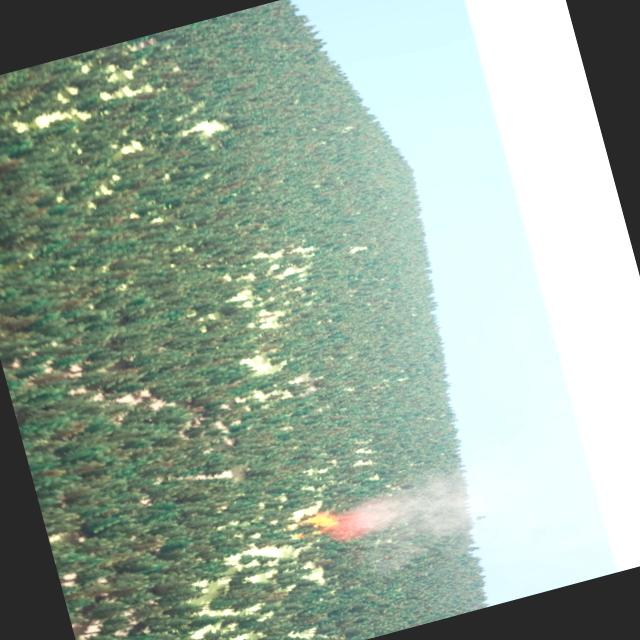fire: (290, 504, 342, 543)
smoke: (336, 458, 494, 578)
